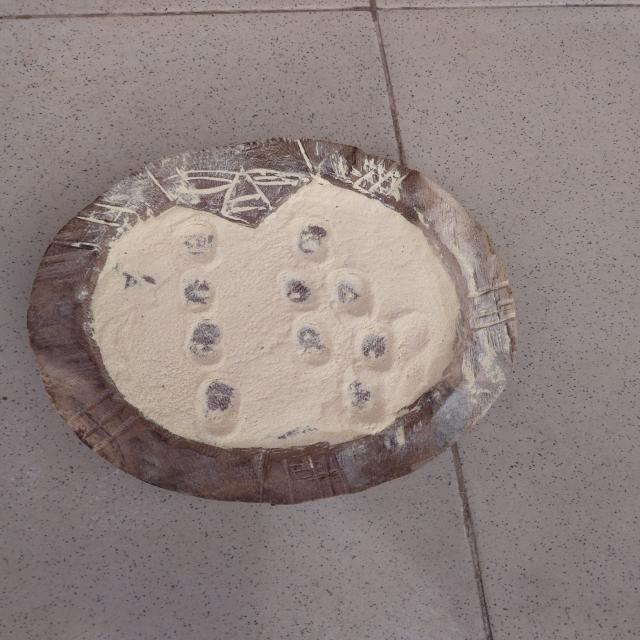double: (286, 308, 404, 372), (280, 266, 376, 314)
single: (335, 366, 397, 432), (170, 211, 228, 274), (194, 369, 239, 434), (294, 208, 337, 264), (182, 322, 230, 369), (175, 274, 226, 316)
